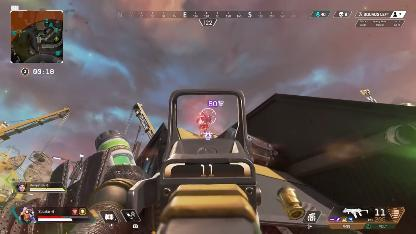Target: (198, 110, 210, 133)
